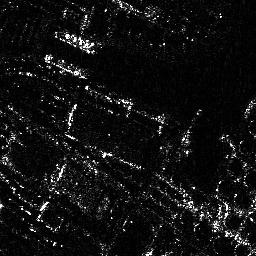ship: (51, 29, 99, 57), (45, 54, 93, 78)
